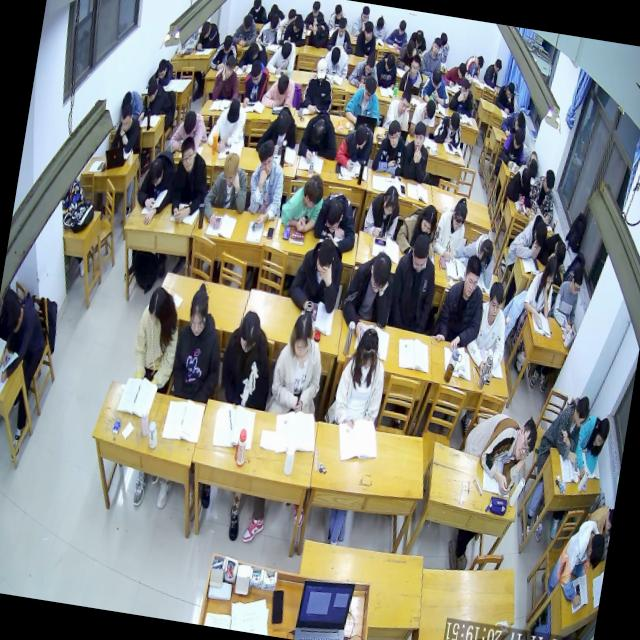bow: (458, 407, 540, 501), (132, 146, 181, 228), (0, 288, 52, 362), (311, 188, 364, 255), (278, 168, 328, 236), (393, 200, 441, 261), (296, 106, 343, 168), (456, 228, 501, 290), (343, 72, 388, 128), (256, 102, 302, 156), (333, 119, 377, 175), (508, 208, 550, 262), (168, 106, 212, 156), (260, 70, 297, 112), (419, 66, 454, 108), (432, 109, 466, 149), (504, 165, 535, 205), (266, 40, 298, 78), (280, 11, 310, 50), (322, 41, 352, 79), (238, 38, 271, 72), (194, 18, 223, 54), (146, 54, 176, 87), (500, 109, 530, 142), (442, 59, 471, 90), (306, 17, 332, 51), (518, 146, 542, 178), (406, 28, 430, 58)
down: (351, 324, 381, 386), (184, 288, 213, 345), (286, 312, 316, 362), (236, 306, 264, 357), (146, 285, 178, 329), (367, 250, 395, 298), (408, 231, 432, 275), (314, 234, 338, 278), (584, 530, 607, 570), (0, 294, 23, 333), (323, 199, 345, 237), (220, 151, 242, 189), (146, 152, 167, 187), (450, 196, 470, 232), (380, 184, 400, 219), (308, 116, 328, 148), (118, 100, 136, 134), (572, 396, 591, 428), (224, 96, 243, 128), (419, 204, 439, 234), (593, 417, 611, 449), (477, 238, 495, 268), (144, 76, 162, 106), (552, 239, 570, 269), (542, 255, 559, 286), (180, 109, 198, 138), (274, 109, 292, 138), (353, 122, 370, 152), (532, 222, 549, 249), (314, 56, 329, 85), (363, 76, 378, 102), (249, 58, 264, 84), (511, 126, 526, 152), (570, 270, 584, 297), (155, 58, 170, 83), (275, 72, 290, 96), (382, 52, 397, 76), (422, 100, 438, 122), (398, 90, 412, 115), (542, 169, 556, 194), (430, 68, 444, 92), (291, 13, 305, 36), (448, 112, 462, 134), (362, 20, 375, 42), (242, 11, 254, 34), (520, 168, 532, 190), (514, 111, 526, 132), (267, 15, 280, 34), (222, 34, 234, 54), (364, 55, 376, 75), (310, 0, 322, 20), (329, 47, 342, 65), (337, 17, 348, 38), (248, 42, 260, 61), (280, 42, 292, 61), (504, 82, 516, 101), (200, 20, 211, 40), (374, 15, 386, 33), (457, 62, 468, 79), (473, 55, 485, 70), (360, 5, 370, 22), (414, 30, 424, 47), (334, 2, 344, 18), (398, 19, 407, 36), (494, 59, 504, 74), (252, 0, 262, 13)
lookup: (512, 414, 540, 465), (459, 252, 484, 300), (254, 138, 278, 182), (486, 281, 506, 320), (177, 136, 198, 172), (385, 118, 403, 150), (411, 121, 428, 152), (223, 54, 237, 80), (408, 52, 422, 78), (458, 78, 472, 102), (430, 36, 443, 58)
sit: (168, 286, 230, 404), (330, 318, 393, 434), (267, 312, 330, 424), (215, 306, 279, 412), (384, 228, 445, 336), (432, 249, 492, 355), (337, 244, 400, 344), (546, 514, 610, 612), (129, 278, 186, 382), (286, 233, 350, 321), (463, 277, 515, 383), (242, 136, 292, 234), (200, 147, 254, 235), (164, 134, 213, 226), (538, 389, 591, 460), (520, 250, 559, 330), (571, 412, 612, 483), (430, 195, 470, 266), (206, 95, 250, 158), (300, 56, 339, 120), (370, 116, 410, 178), (550, 268, 586, 336), (362, 182, 403, 241), (400, 119, 434, 184), (109, 99, 148, 155), (211, 51, 245, 104), (526, 172, 559, 222), (138, 78, 172, 126), (382, 86, 416, 134), (497, 125, 530, 173), (348, 50, 382, 93), (242, 54, 272, 102), (408, 95, 438, 141), (398, 50, 427, 97), (447, 75, 478, 118), (210, 31, 241, 73), (353, 18, 381, 61), (254, 11, 284, 50), (420, 36, 446, 78), (231, 11, 260, 48), (373, 52, 400, 90), (384, 18, 410, 52), (326, 26, 354, 56), (351, 3, 374, 38), (495, 79, 518, 114), (302, 0, 326, 32), (482, 56, 504, 90), (246, 0, 270, 26), (328, 1, 348, 32), (371, 11, 391, 42), (464, 51, 485, 79)
